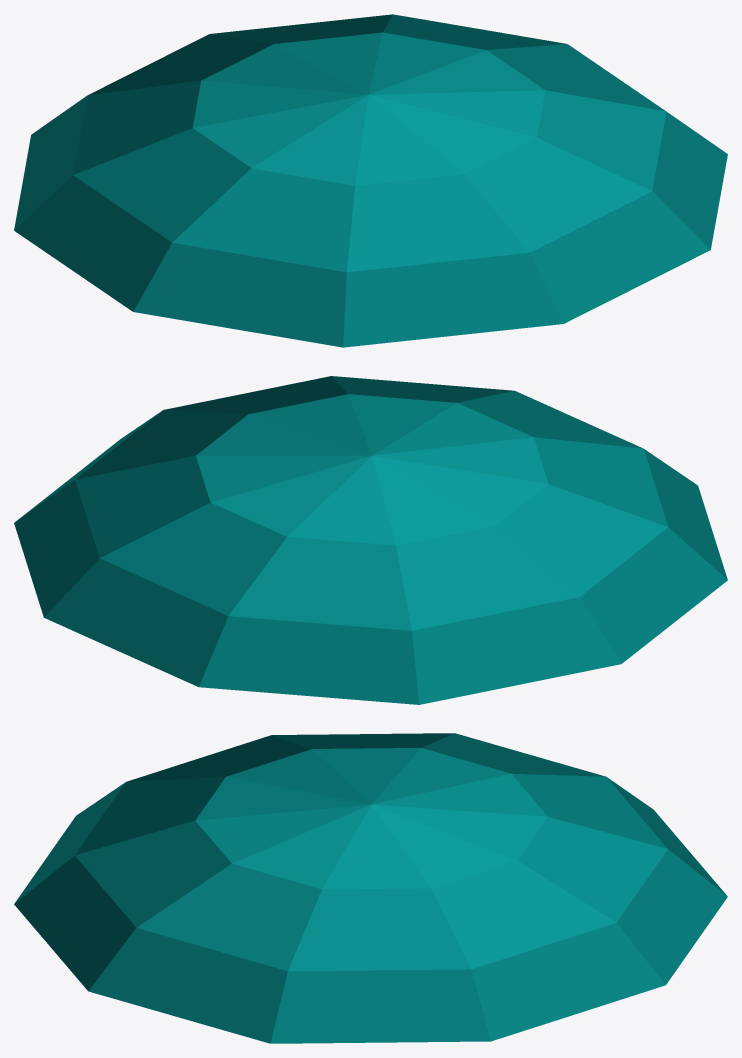
The model's file is Cave_Lair_Vegetation_Swamp_Mushroom_Large_04.fbx.
3 renders of one model, top to bottom at view 1: azimuth 30°, elevation 25°; view 2: azimuth 150°, elevation 25°; view 3: azimuth 270°, elevation 25°, orthographic. The views are drawn at different scales.
Parts seen in each view (by area): view 1: Cave_Lair_Vegetation_Swamp_Mushroom_Large_04; view 2: Cave_Lair_Vegetation_Swamp_Mushroom_Large_04; view 3: Cave_Lair_Vegetation_Swamp_Mushroom_Large_04.
Boxes of the visible parts, x1,y1,x2,y2 form: Cave_Lair_Vegetation_Swamp_Mushroom_Large_04: (14, 14, 727, 347); Cave_Lair_Vegetation_Swamp_Mushroom_Large_04: (14, 376, 727, 704); Cave_Lair_Vegetation_Swamp_Mushroom_Large_04: (14, 733, 727, 1043).
Size of the model in its own units: 3.25 by 0.5054 by 3.38.
